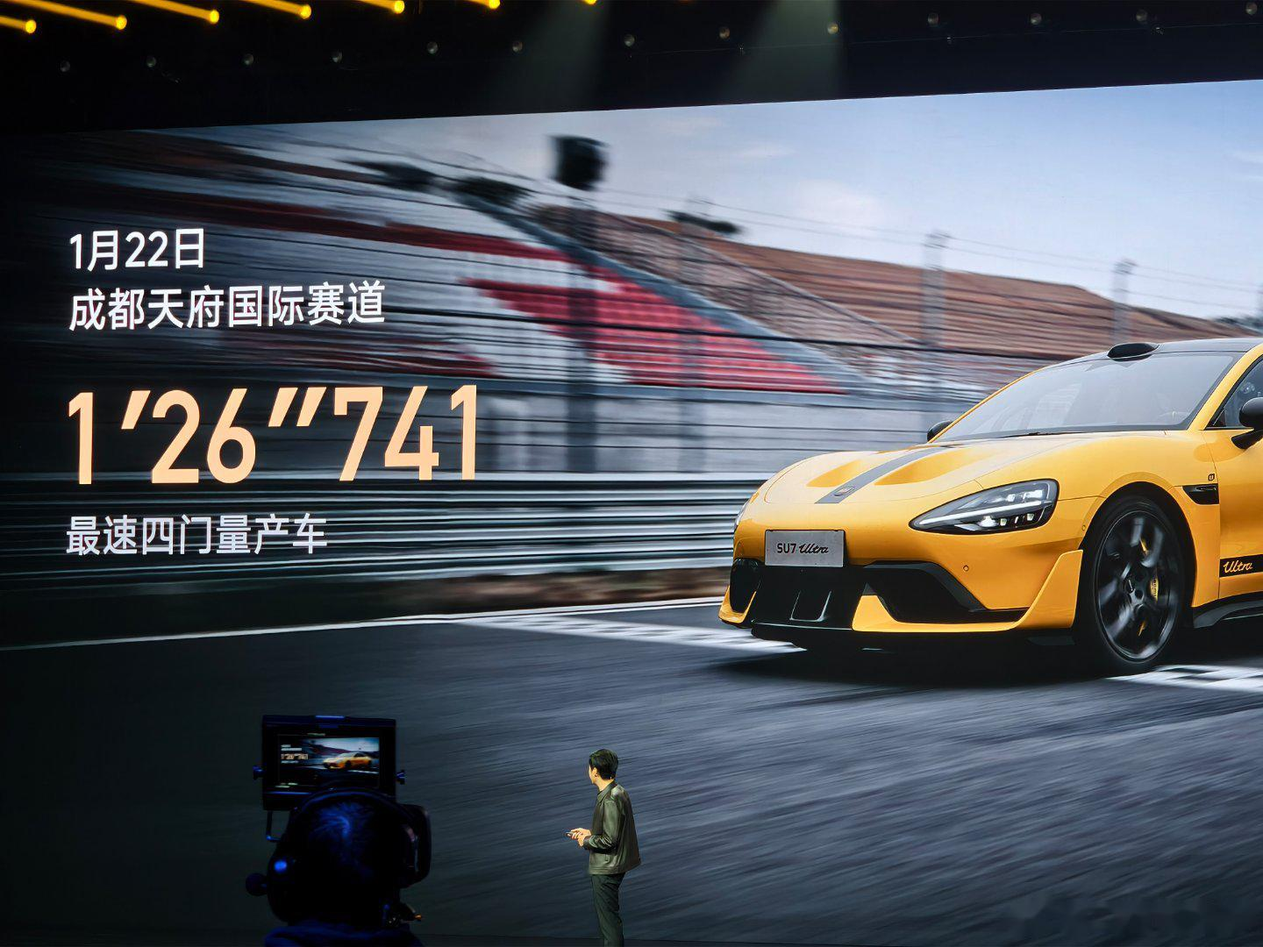su7: (712, 350, 1263, 642)
